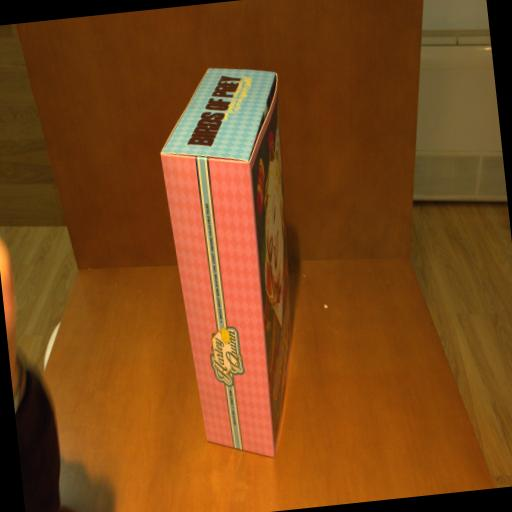Harley: (152, 60, 318, 464)
